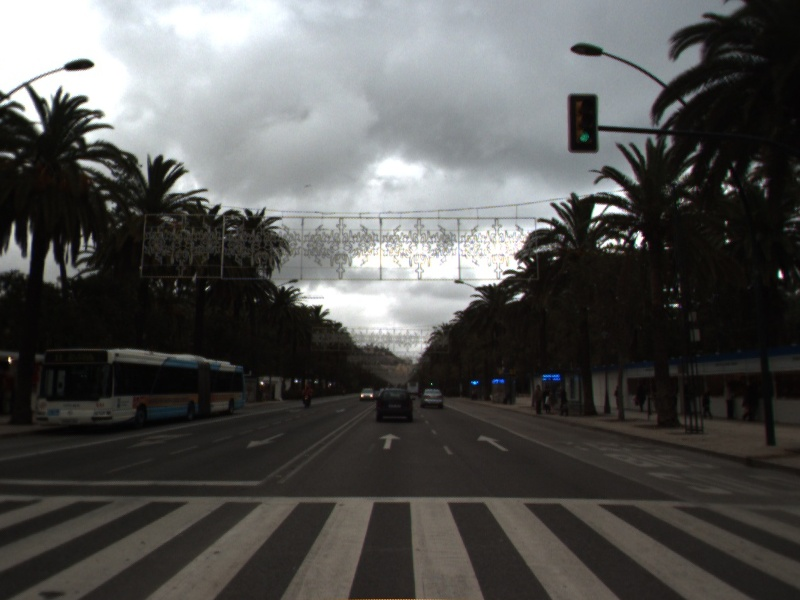STRAIGHT: (474, 432, 512, 454), (377, 431, 403, 451)
